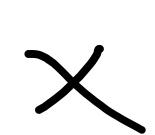mult: (24, 44, 146, 134)
